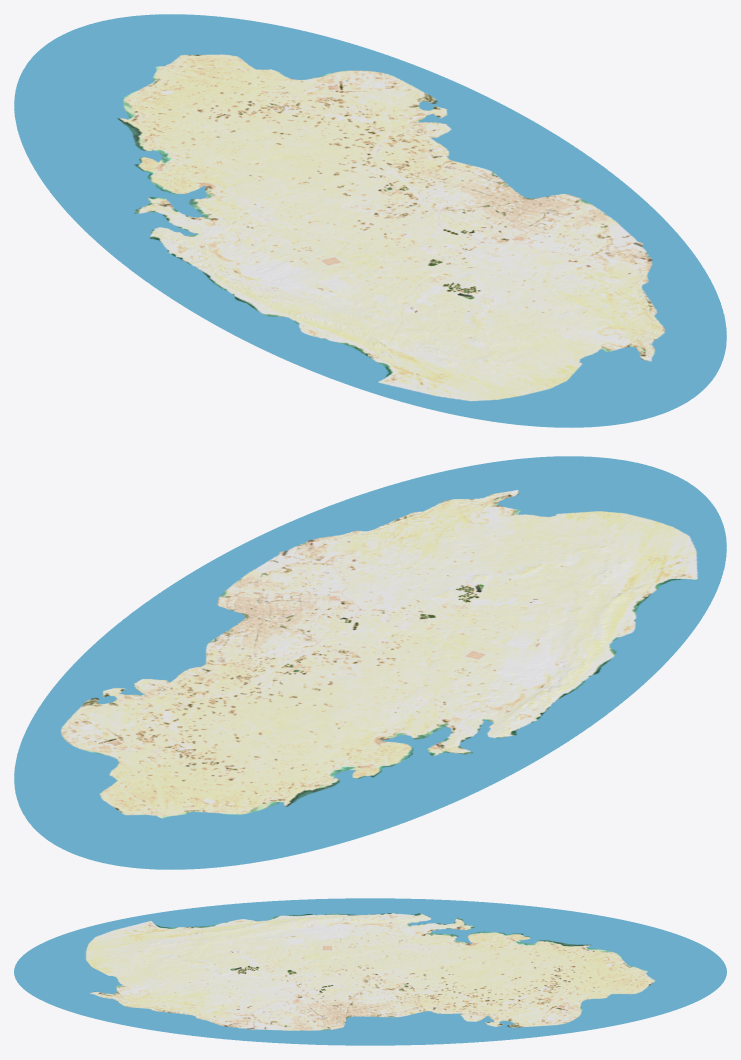
Rendered from QAT-previa-terrain.glb.
The picture shows the model from 3 angles, top to bottom: view 1: azimuth 30°, elevation 25°; view 2: azimuth 150°, elevation 25°; view 3: azimuth 270°, elevation 25°; orthographic projection. The views are drawn at different scales.
Visible parts, largest first — view 1: Catar; view 2: Catar; view 3: Catar.
Boxes of the visible parts, left/top/right/bottom form: Catar: left=14, top=14, right=726, bottom=427; Catar: left=14, top=456, right=726, bottom=869; Catar: left=14, top=898, right=726, bottom=1045.
Bounding box in the file's own units: 1.08 × 0.0061 × 2.2.
Materials: 1 (1 with a texture image).
